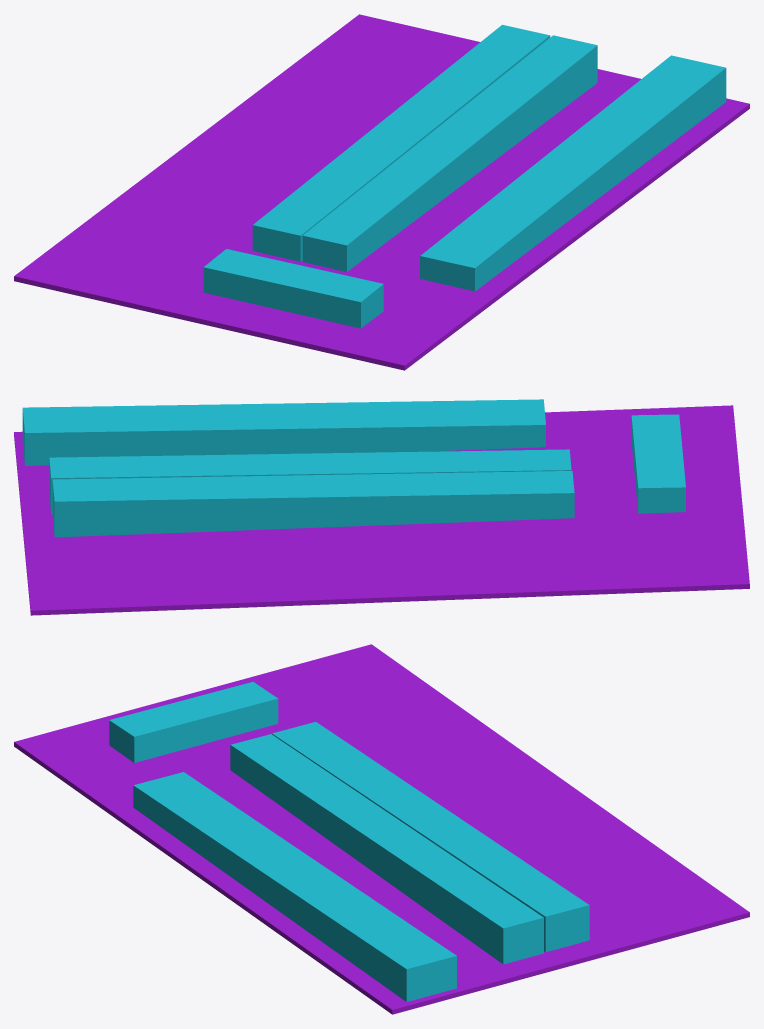
Rendered from Dummies_01.fbx.
The picture shows the model from 3 angles, top to bottom: view 1: azimuth 30°, elevation 25°; view 2: azimuth 150°, elevation 25°; view 3: azimuth 270°, elevation 25°; orthographic projection. The views are drawn at different scales.
Parts seen in each view (by area): view 1: Urbanismo, Manzana_01, Manzana_02, Manzana_03, Manzana_04; view 2: Urbanismo, Manzana_03, Manzana_01, Manzana_02, Manzana_04; view 3: Urbanismo, Manzana_01, Manzana_02, Manzana_03, Manzana_04.
Part boxes in pixels (x1,y1,x2,y2): Urbanismo: (14,14,749,370); Manzana_01: (420,55,726,291); Manzana_02: (302,35,597,271); Manzana_03: (252,24,550,261); Manzana_04: (203,249,383,328); Urbanismo: (14,405,749,615); Manzana_03: (52,471,574,537); Manzana_01: (22,399,545,465); Manzana_02: (49,449,571,514); Manzana_04: (631,414,685,513); Urbanismo: (14,644,749,1014); Manzana_01: (133,772,456,1001); Manzana_02: (230,734,543,964); Manzana_03: (272,722,589,952); Manzana_04: (109,682,278,762).
Size of the model in its own units: 20074 by 1188 by 17896.
